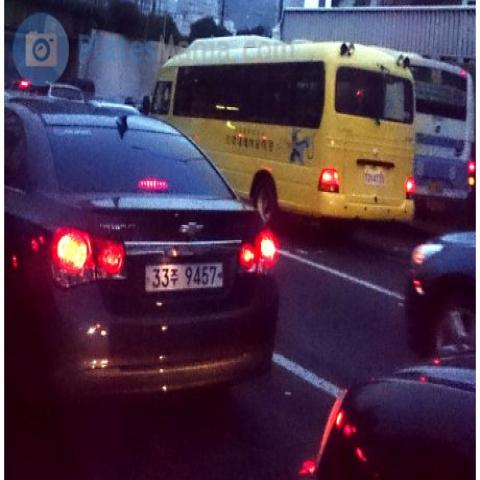LP: (144, 255, 231, 298)
